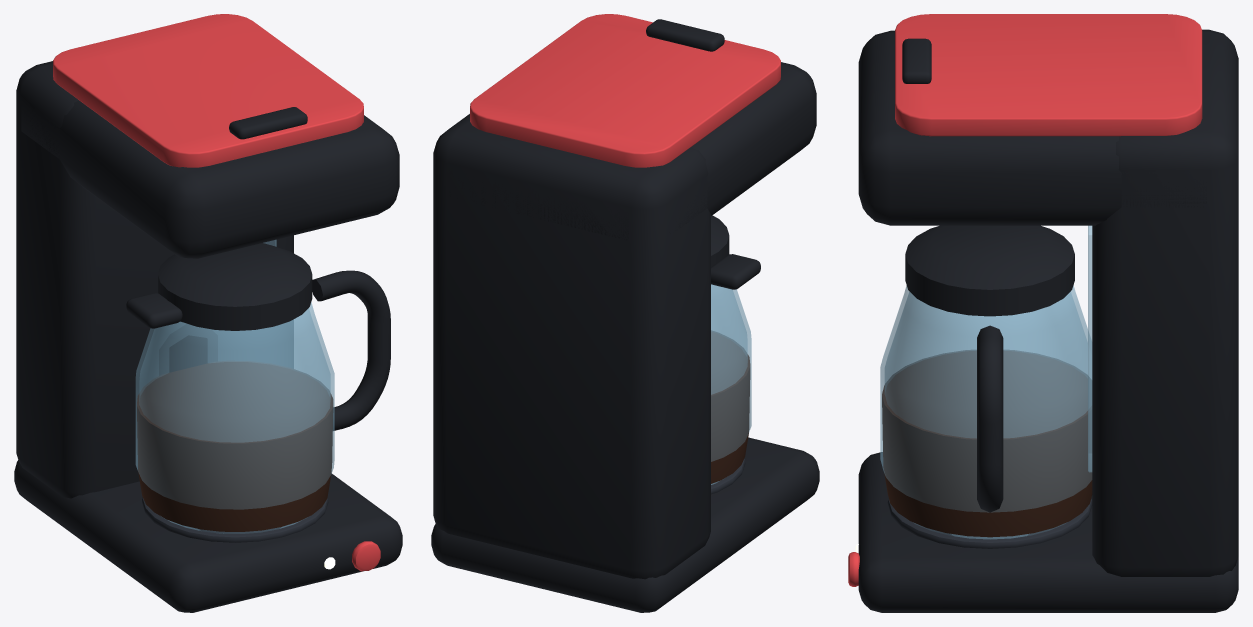
File: cafeteira_filtro_preta.glb
3 renders of one model, left to right at view 1: azimuth 30°, elevation 25°; view 2: azimuth 150°, elevation 25°; view 3: azimuth 270°, elevation 25°, orthographic. The views are drawn at different scales.
Visible parts, largest first — view 1: cafeteira_filtro_preta, tampa; view 2: cafeteira_filtro_preta, tampa; view 3: cafeteira_filtro_preta, tampa.
Part boxes in pixels (x1,y1,x2,y2): cafeteira_filtro_preta: [14, 61, 402, 612]; tampa: [53, 14, 363, 167]; cafeteira_filtro_preta: [431, 62, 819, 612]; tampa: [470, 14, 780, 167]; cafeteira_filtro_preta: [848, 29, 1238, 612]; tampa: [895, 14, 1202, 136].
Bounding box in the file's own units: 0.234 × 0.38 × 0.267.
3 materials, 1 textured.
